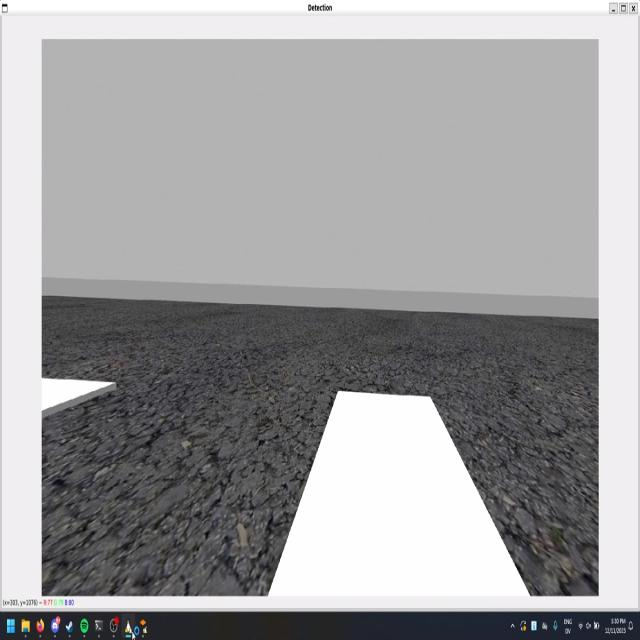crosswalk: (43, 375, 597, 593)
